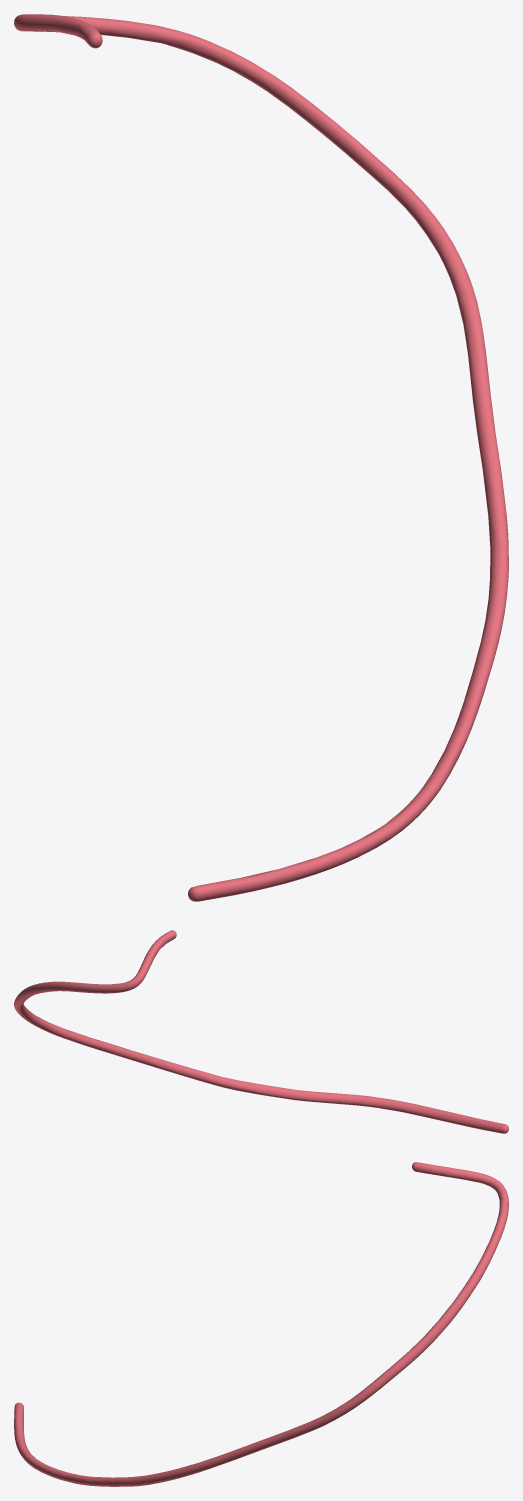
The model's file is fma4112_fj1974.glb.
3 views of the same model, one above another, from view 1: azimuth 30°, elevation 25°; view 2: azimuth 150°, elevation 25°; view 3: azimuth 270°, elevation 25° (orthographic). The views are drawn at different scales.
Parts seen in each view (by area): view 1: FMA4112_FJ1974; view 2: FMA4112_FJ1974; view 3: FMA4112_FJ1974.
Part boxes in pixels (x1,y1,x2,y2): FMA4112_FJ1974: [14, 14, 508, 901]; FMA4112_FJ1974: [14, 930, 508, 1133]; FMA4112_FJ1974: [14, 1162, 508, 1486].
Size of the model in its own units: 0.0789 by 0.0743 by 0.1043.
